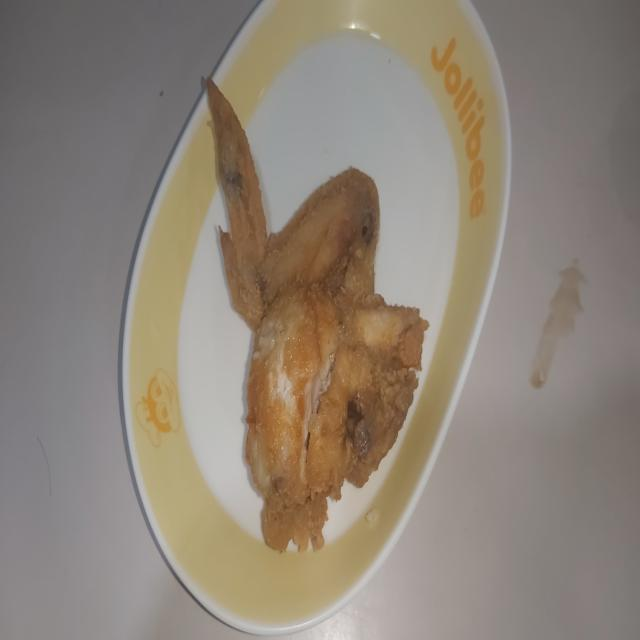Chicken -Fried Chicken-: (201, 72, 432, 562)
